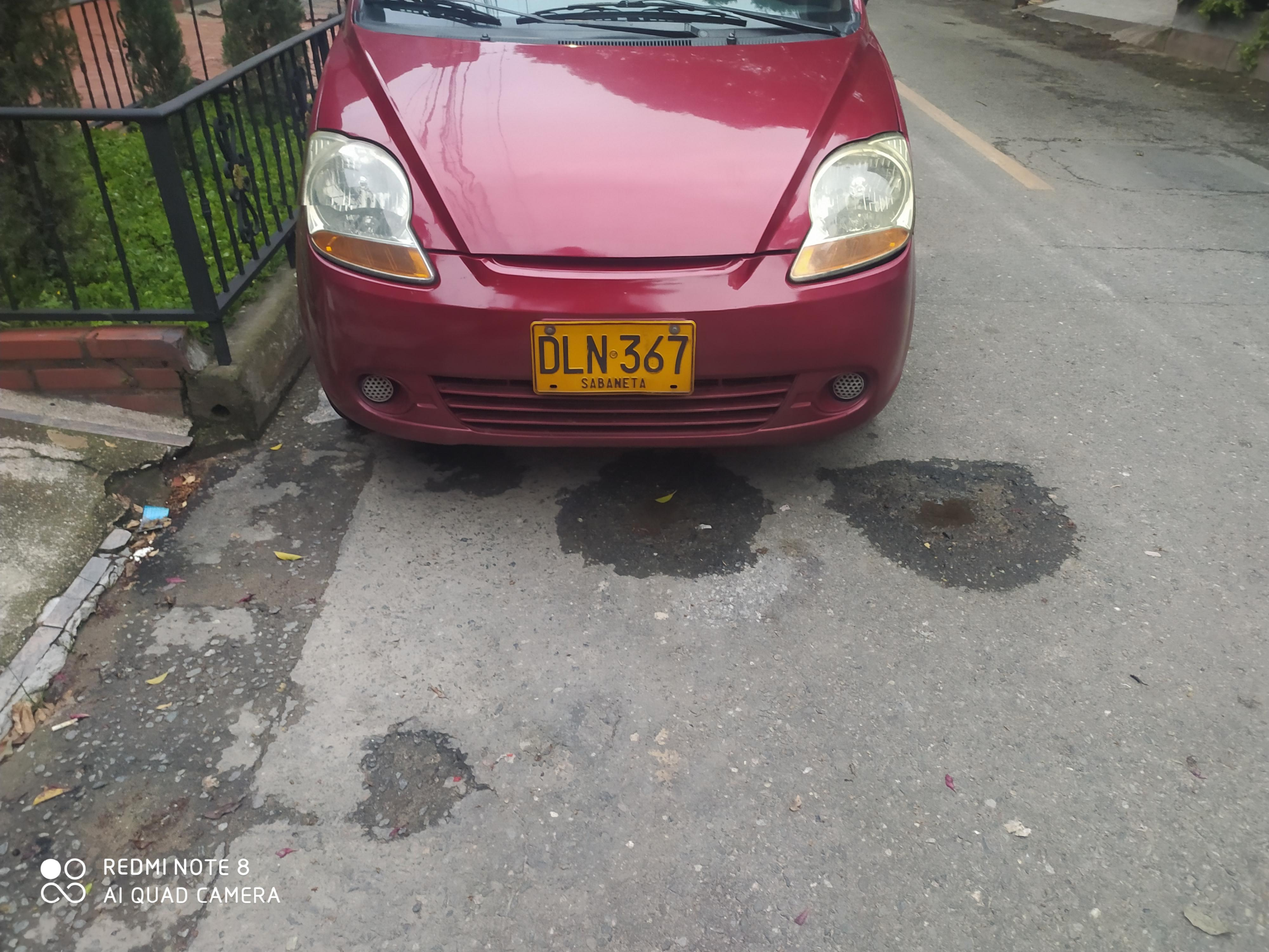placa: (522, 313, 706, 401)
